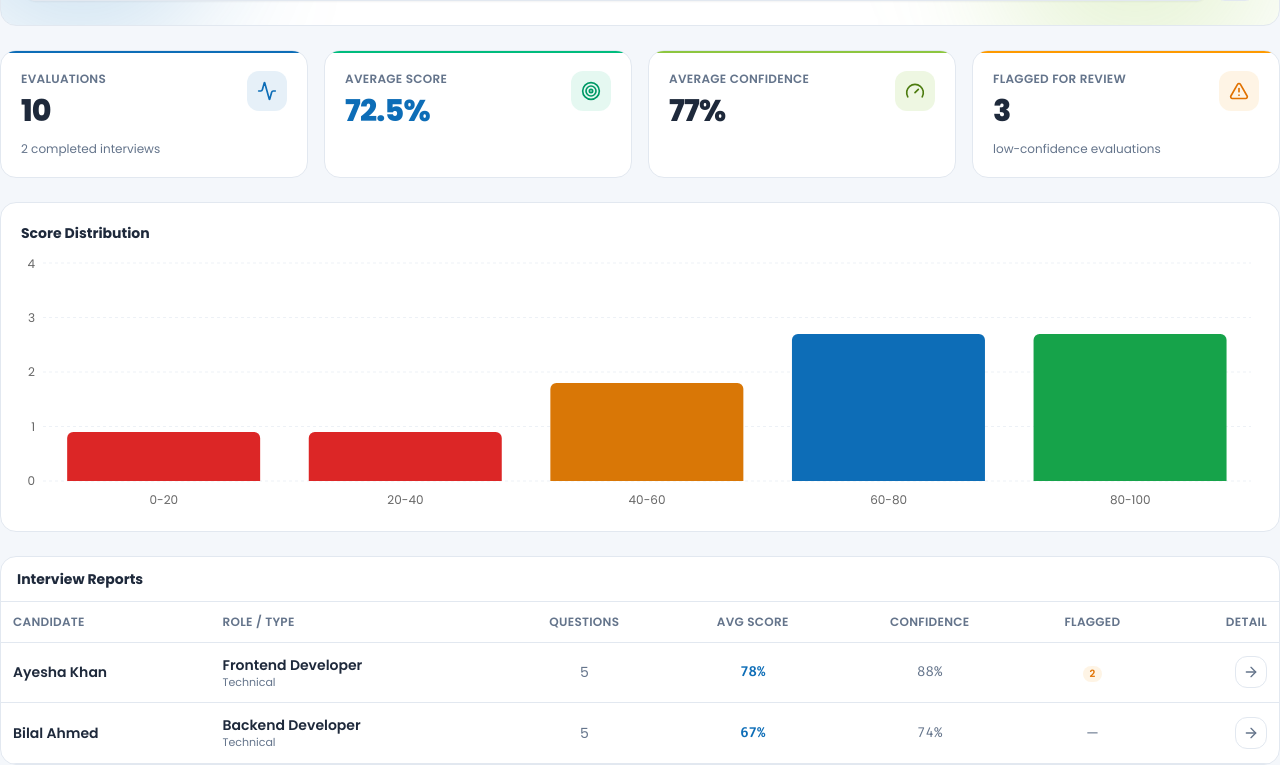
Test: AdminScoringPage › marks a low-confidence answer as flagged in the breakdown
(page scrolled)
Click the text "Ayesha Khan" at (106, 672), box 1,642 -> 210,703
(page scrolled)
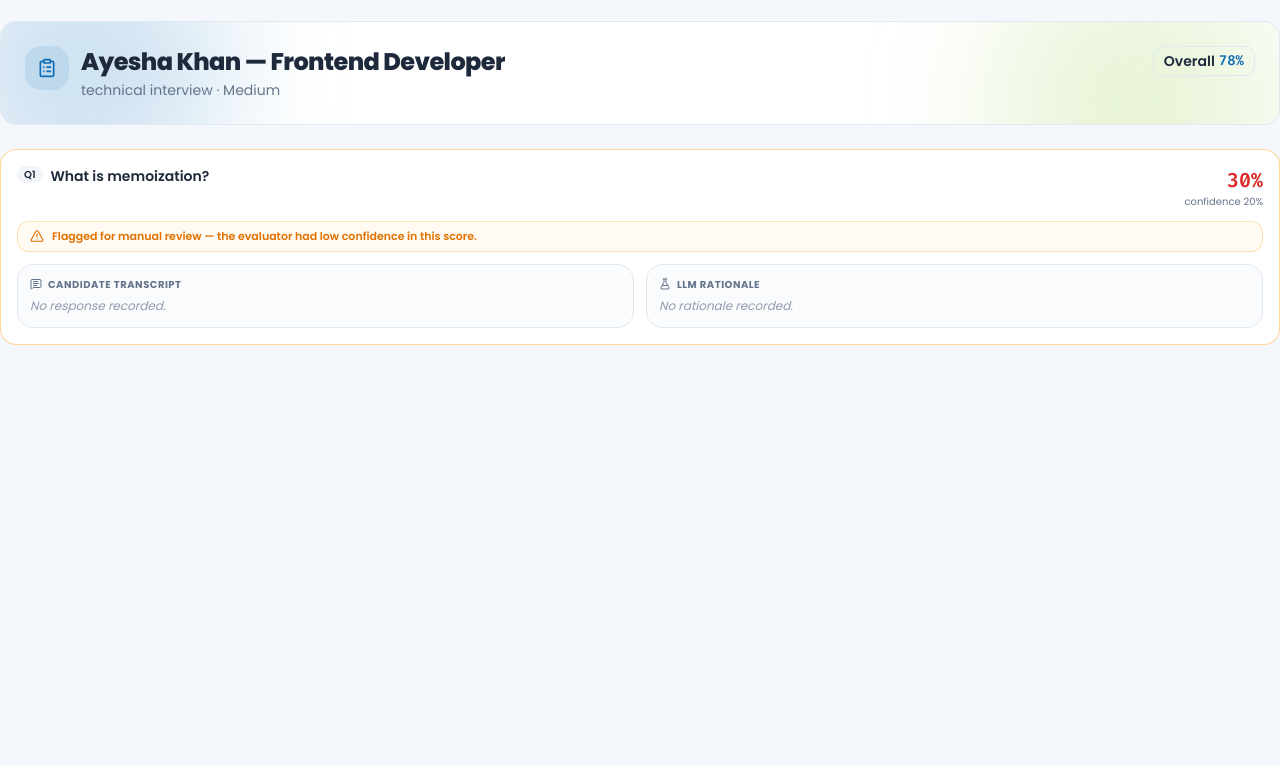
Check: the text "Flagged for manual review" is shown, box 52,228 -> 477,244
